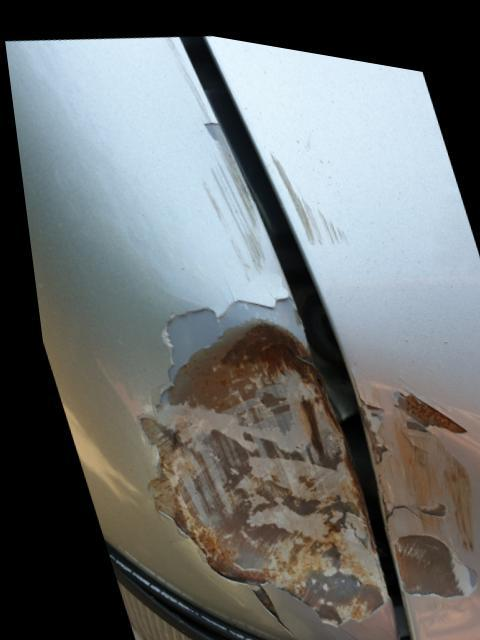dent: (125, 302, 378, 628), (343, 361, 480, 640)
scratch: (163, 30, 262, 273), (262, 132, 346, 238)
